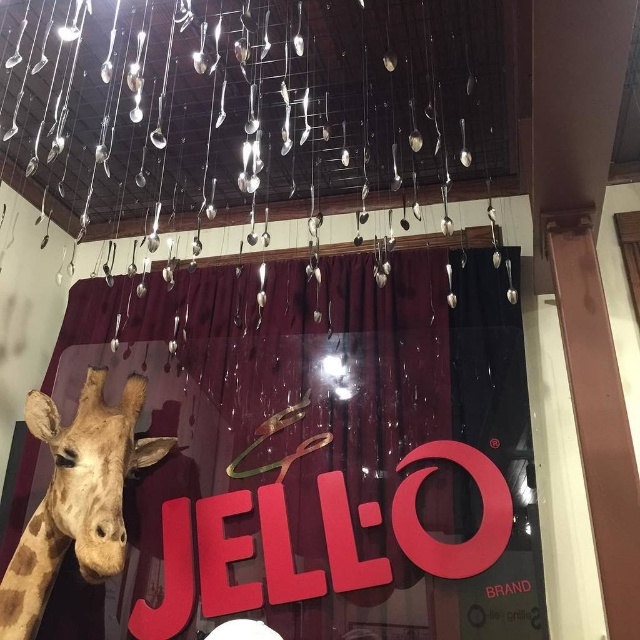Giraffe: (7, 360, 172, 620)
